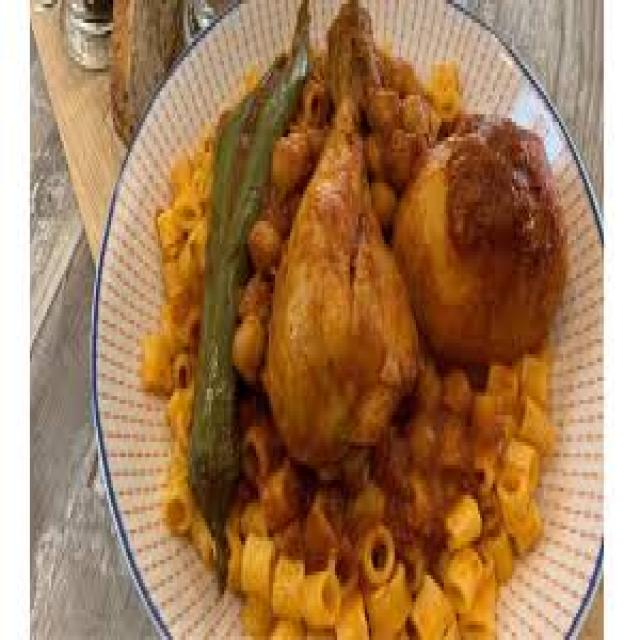Pasta: (163, 29, 579, 623)
